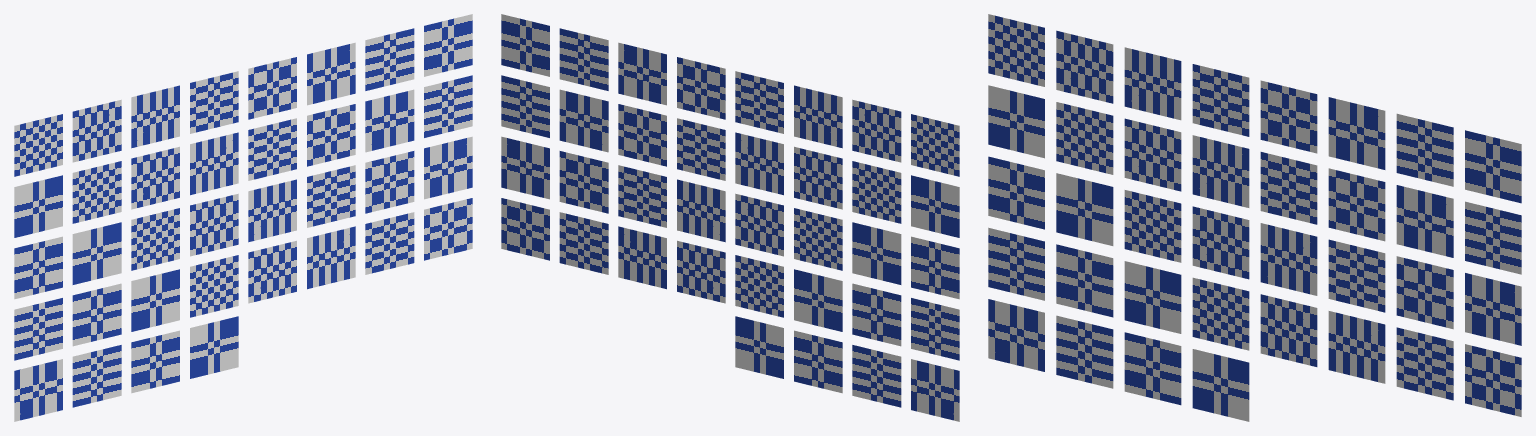
File: ManySamplers.gltf
3 views of the same model, side by side, from view 1: azimuth 30°, elevation 25°; view 2: azimuth 150°, elevation 25°; view 3: azimuth 330°, elevation 25° (orthographic). The views are drawn at different scales.
Parts seen in each view (by area): view 1: quad 9, quad 14, quad 17, quad 22, quad 25, quad 30, quad 1, quad 6, quad 33, quad 2, quad 3, quad 4 (+24 smaller); view 2: quad 9, quad 14, quad 17, quad 22, quad 25, quad 30, quad 1, quad 6, quad 33, quad 2, quad 3, quad 4 (+24 smaller); view 3: quad 33, quad 6, quad 25, quad 28, quad 1, quad 4, quad 2, quad 9, quad 12, quad 14, quad 17, quad 19 (+24 smaller).
Boxes of the visible parts, x1=… form: quad 9: x1=72, y1=161, x2=121, y2=223; quad 14: x1=365, y1=89, x2=414, y2=152; quad 17: x1=72, y1=222, x2=121, y2=284; quad 22: x1=365, y1=151, x2=414, y2=213; quad 25: x1=72, y1=283, x2=121, y2=346; quad 30: x1=365, y1=212, x2=414, y2=274; quad 1: x1=72, y1=99, x2=121, y2=162; quad 6: x1=365, y1=28, x2=414, y2=90; quad 33: x1=72, y1=345, x2=121, y2=407; quad 2: x1=131, y1=85, x2=179, y2=148; quad 3: x1=190, y1=71, x2=238, y2=133; quad 4: x1=248, y1=57, x2=296, y2=119; quad 9: x1=852, y1=161, x2=901, y2=223; quad 14: x1=559, y1=89, x2=608, y2=152; quad 17: x1=852, y1=222, x2=901, y2=284; quad 22: x1=559, y1=151, x2=608, y2=213; quad 25: x1=852, y1=283, x2=901, y2=346; quad 30: x1=559, y1=212, x2=608, y2=274; quad 1: x1=852, y1=99, x2=901, y2=162; quad 6: x1=559, y1=28, x2=608, y2=90; quad 33: x1=852, y1=345, x2=901, y2=407; quad 2: x1=794, y1=85, x2=842, y2=148; quad 3: x1=735, y1=71, x2=783, y2=133; quad 4: x1=677, y1=57, x2=725, y2=119; quad 33: x1=1056, y1=315, x2=1113, y2=388; quad 6: x1=1396, y1=113, x2=1453, y2=186; quad 25: x1=1056, y1=244, x2=1113, y2=317; quad 28: x1=1260, y1=294, x2=1317, y2=366; quad 1: x1=1056, y1=30, x2=1113, y2=103; quad 4: x1=1260, y1=80, x2=1317, y2=153; quad 2: x1=1124, y1=47, x2=1181, y2=120; quad 9: x1=1056, y1=102, x2=1113, y2=174; quad 12: x1=1260, y1=152, x2=1317, y2=224; quad 14: x1=1396, y1=185, x2=1453, y2=257; quad 17: x1=1056, y1=173, x2=1113, y2=245; quad 19: x1=1192, y1=206, x2=1249, y2=279.
Bounding box in the file's own units: 9.4 × 5.8 × 0.
36 materials, 36 textured.
